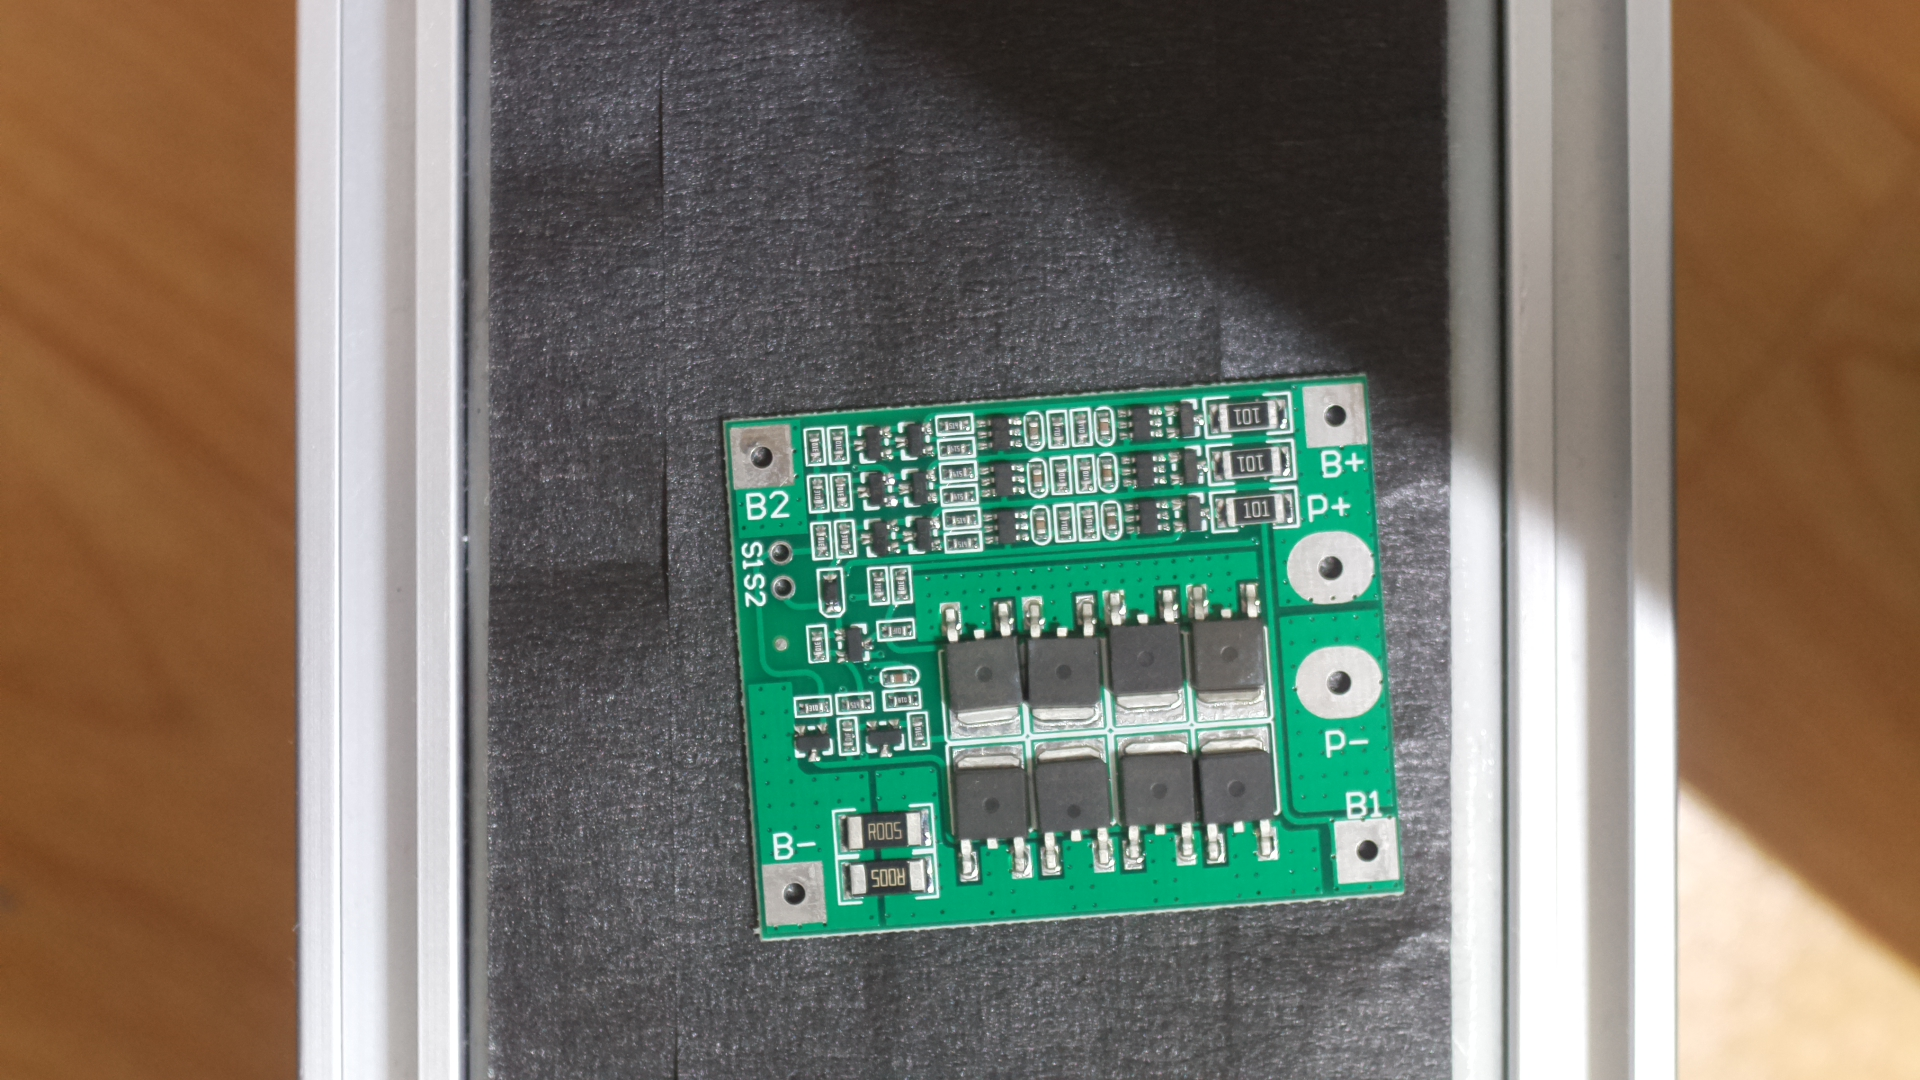C_Normal: (696, 373, 1419, 934)
